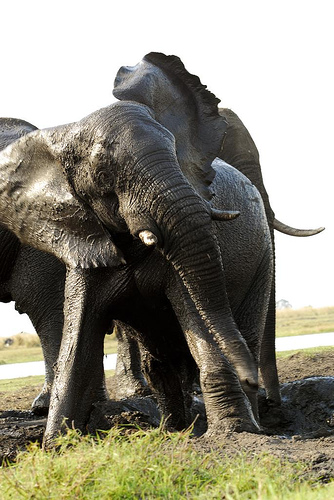elephant: (1, 47, 302, 480)
